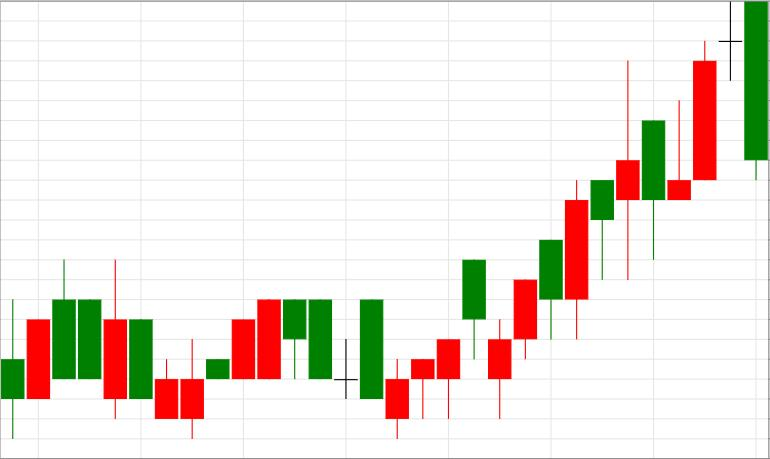hanging_man_fall: (488, 180, 614, 419)
